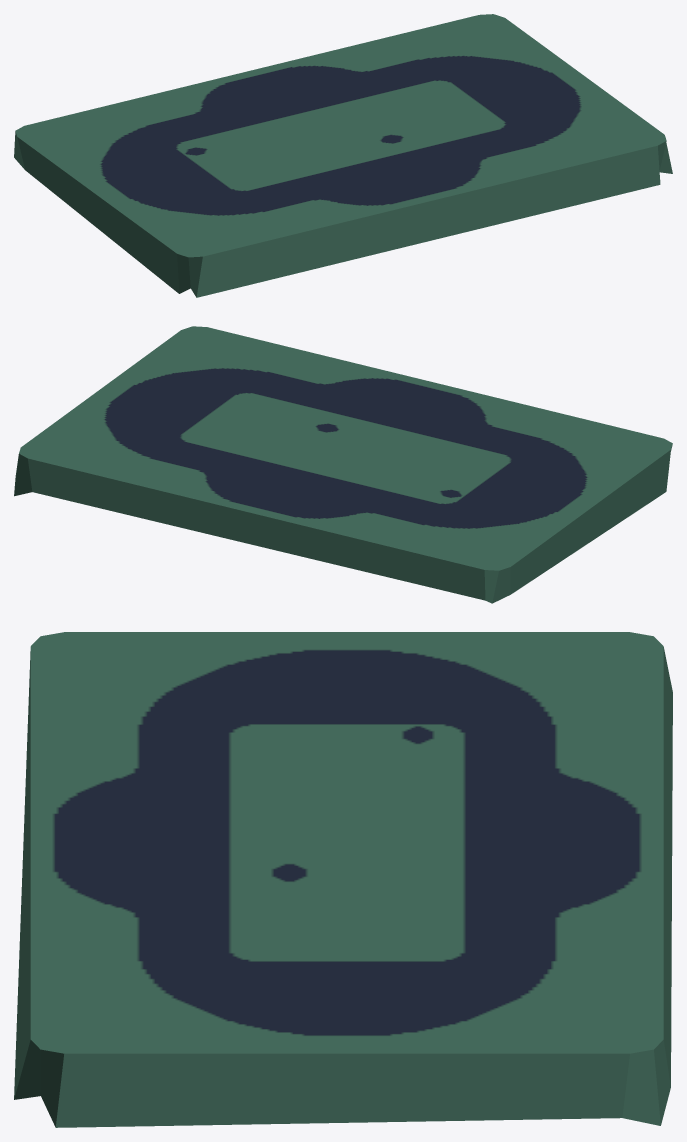
The model's file is floor.glb.
The picture shows the model from 3 angles, top to bottom: view 1: azimuth 30°, elevation 25°; view 2: azimuth 150°, elevation 25°; view 3: azimuth 270°, elevation 25°; orthographic projection. The views are drawn at different scales.
Visible parts, largest first — view 1: Floor; view 2: Floor; view 3: Floor.
Part boxes in pixels (box(x1,y1,x2,y2)): Floor: box(14, 14, 672, 297); Floor: box(14, 326, 672, 603); Floor: box(14, 632, 672, 1127).
Size of the model in its own units: 10.56 by 0.8585 by 6.87.
2 materials, 1 textured.
